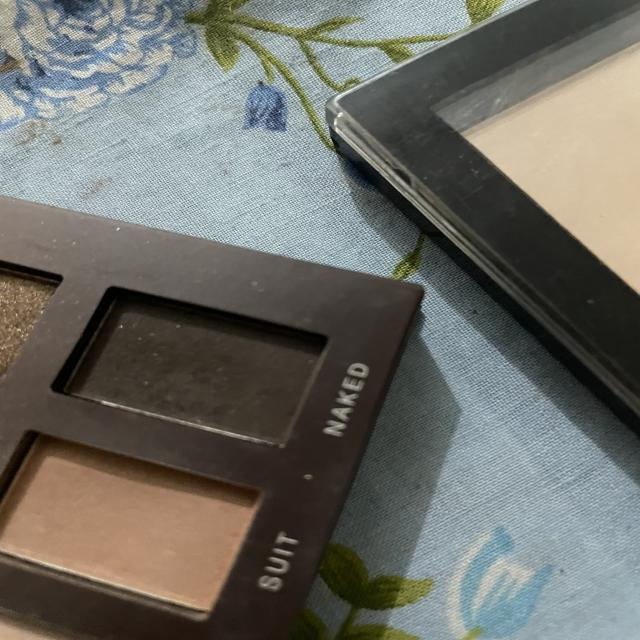eye shade: (0, 431, 297, 628), (34, 277, 349, 455)
